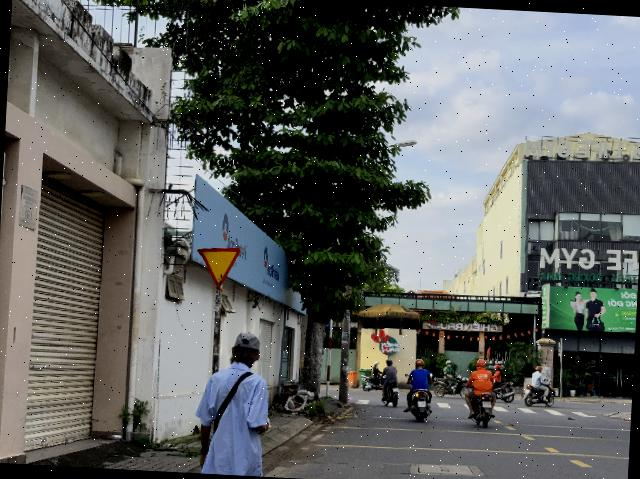giao-nhau-voi-duong-uu-tien: (194, 246, 242, 290)
